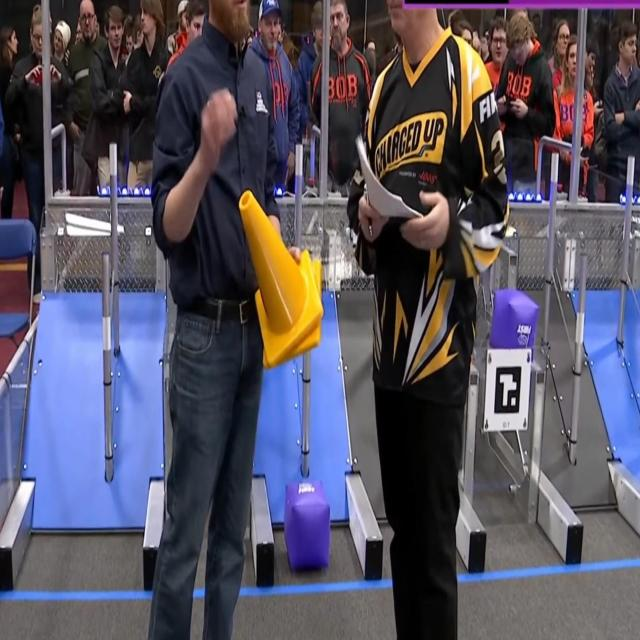frc_cone: (236, 180, 316, 357)
frc_cube: (284, 479, 331, 570), (490, 288, 537, 356)
